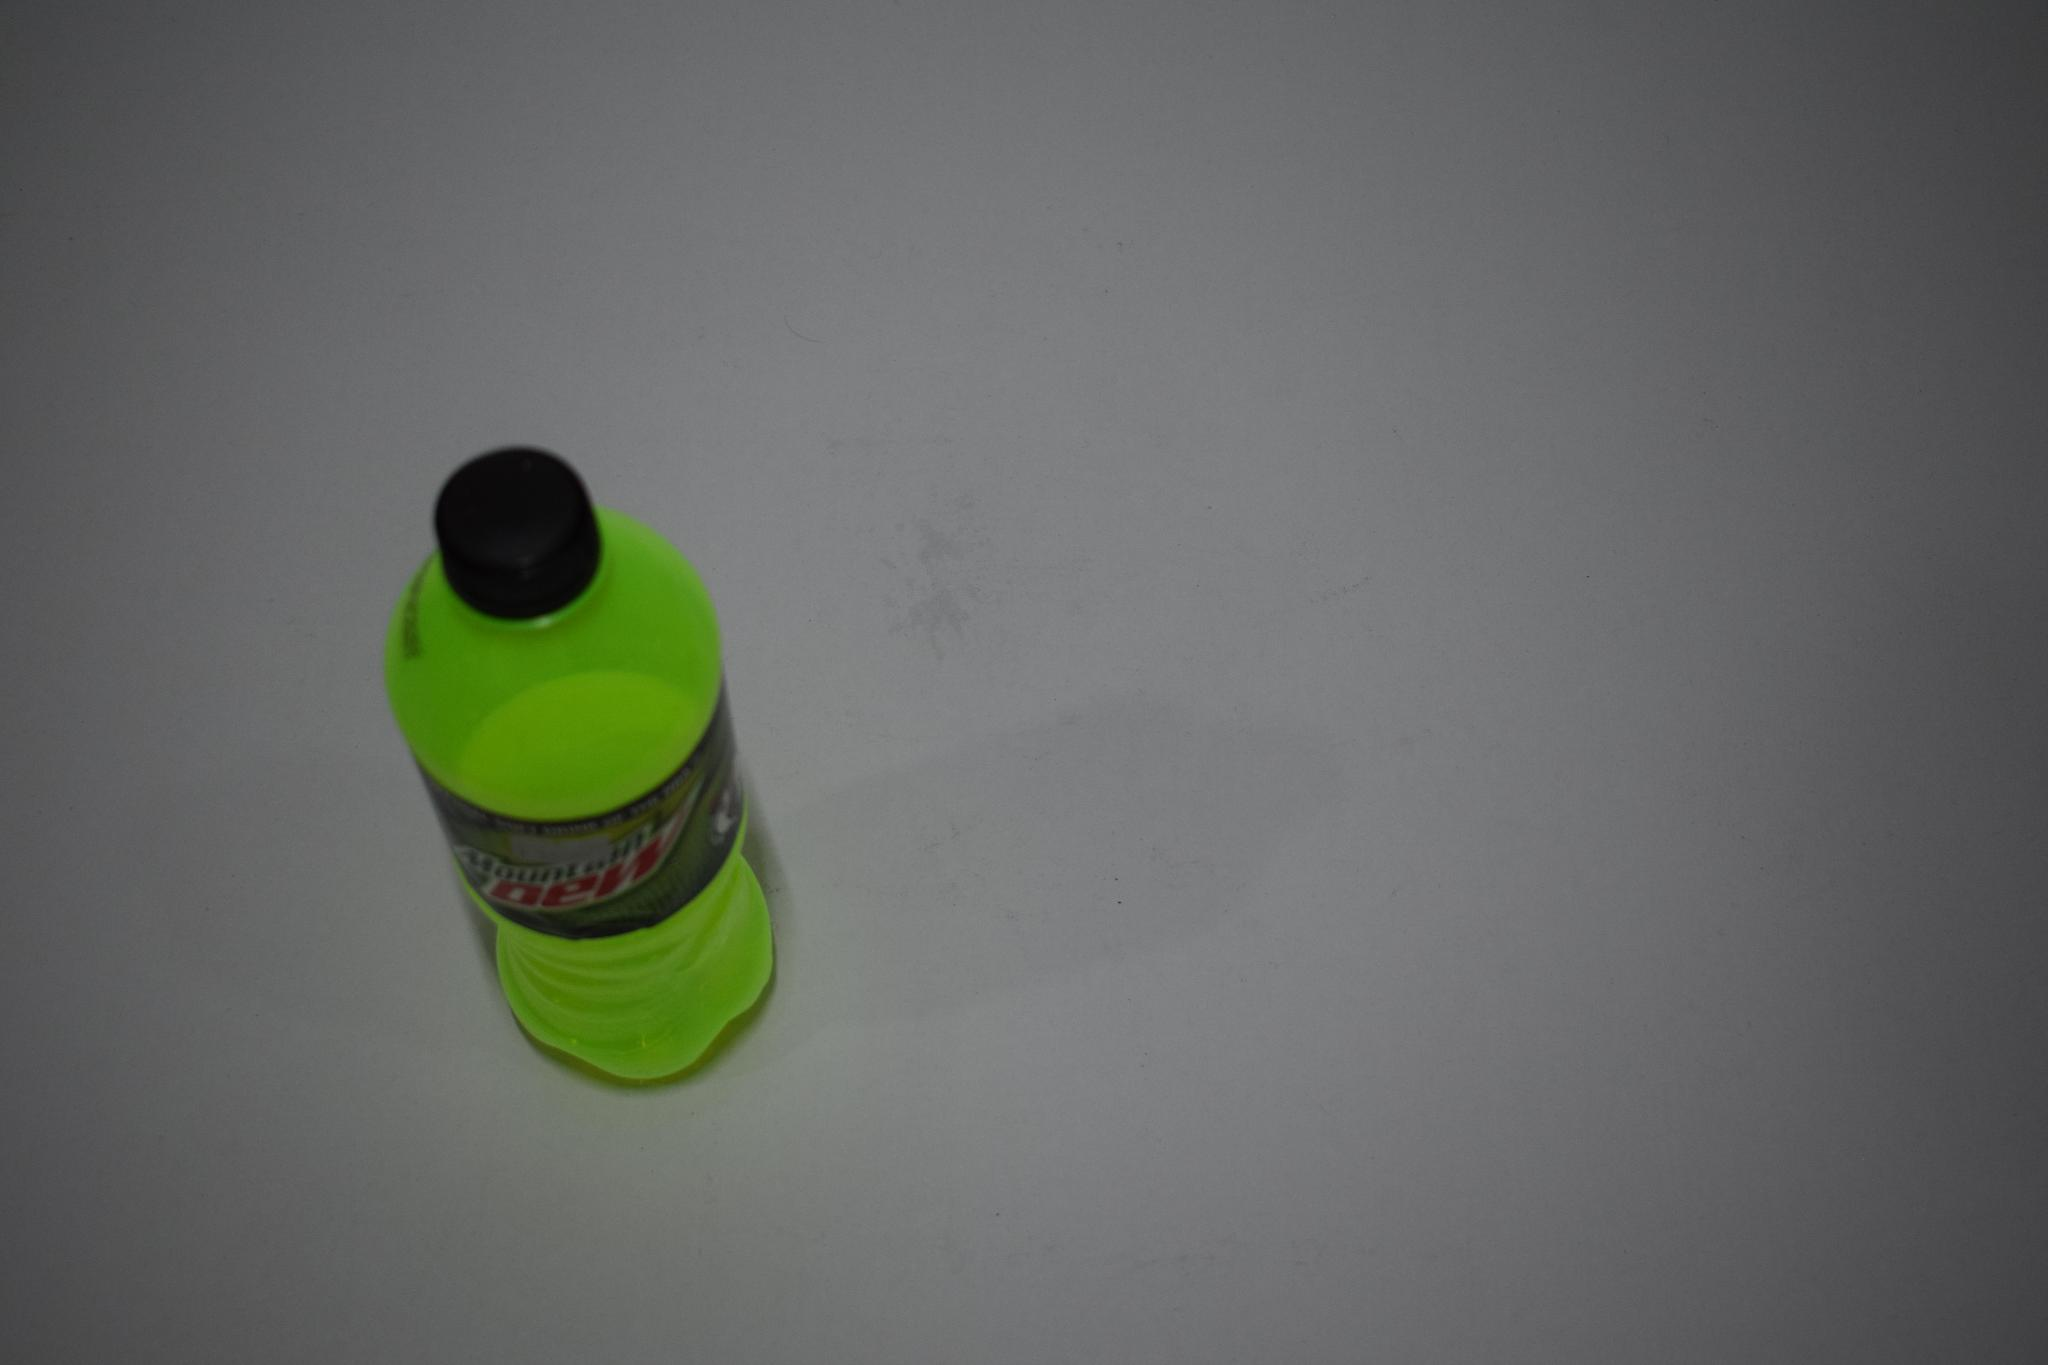bottle: (387, 443, 778, 1089)
